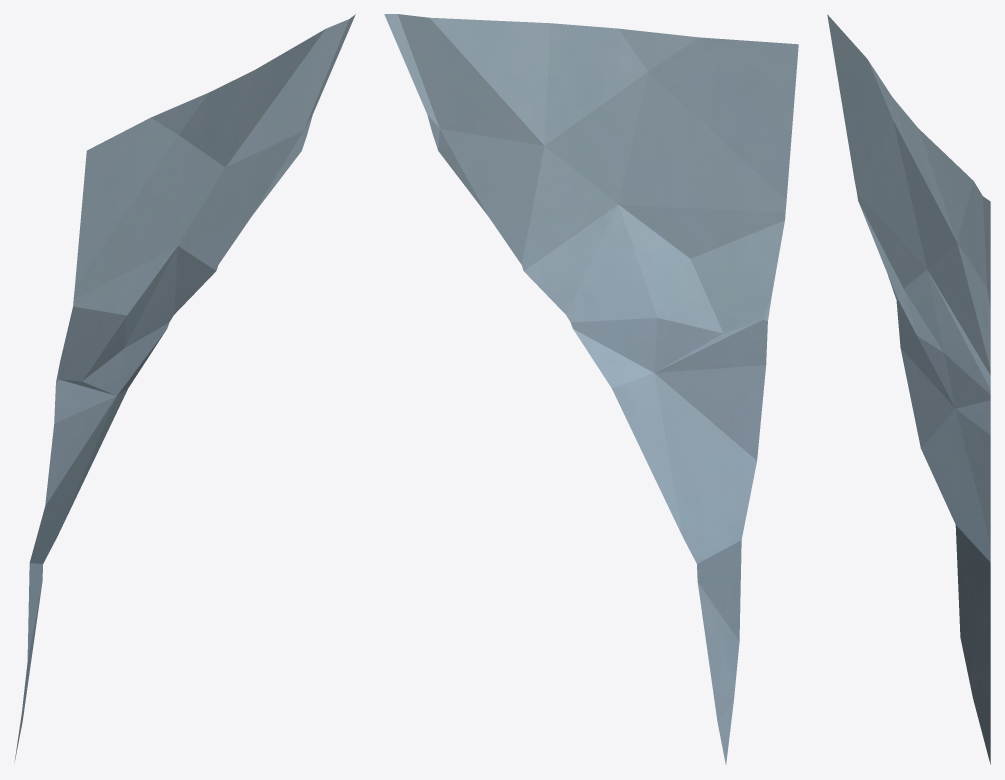
3 views of the same model, side by side, from view 1: azimuth 30°, elevation 25°; view 2: azimuth 150°, elevation 25°; view 3: azimuth 270°, elevation 25° (orthographic). The views are drawn at different scales.
Size of the model in its own units: 0.7154 by 1.34 by 0.2636.
1 material, 1 textured.
